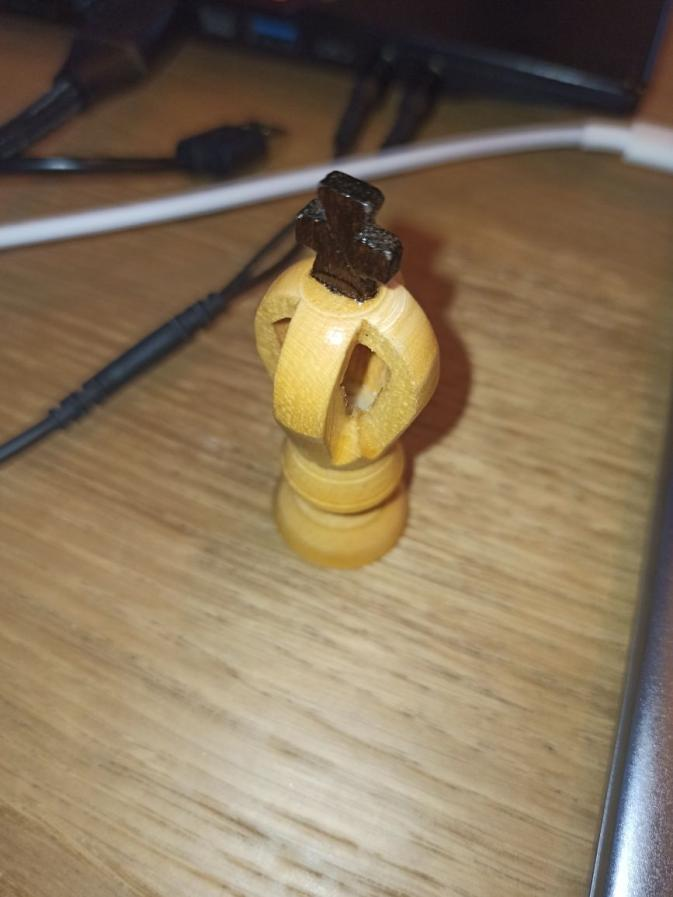wking: (250, 170, 445, 584)
